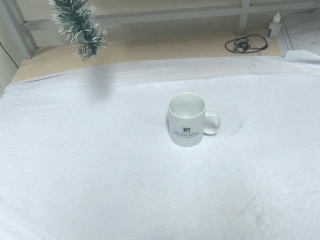cup: (166, 91, 222, 149)
